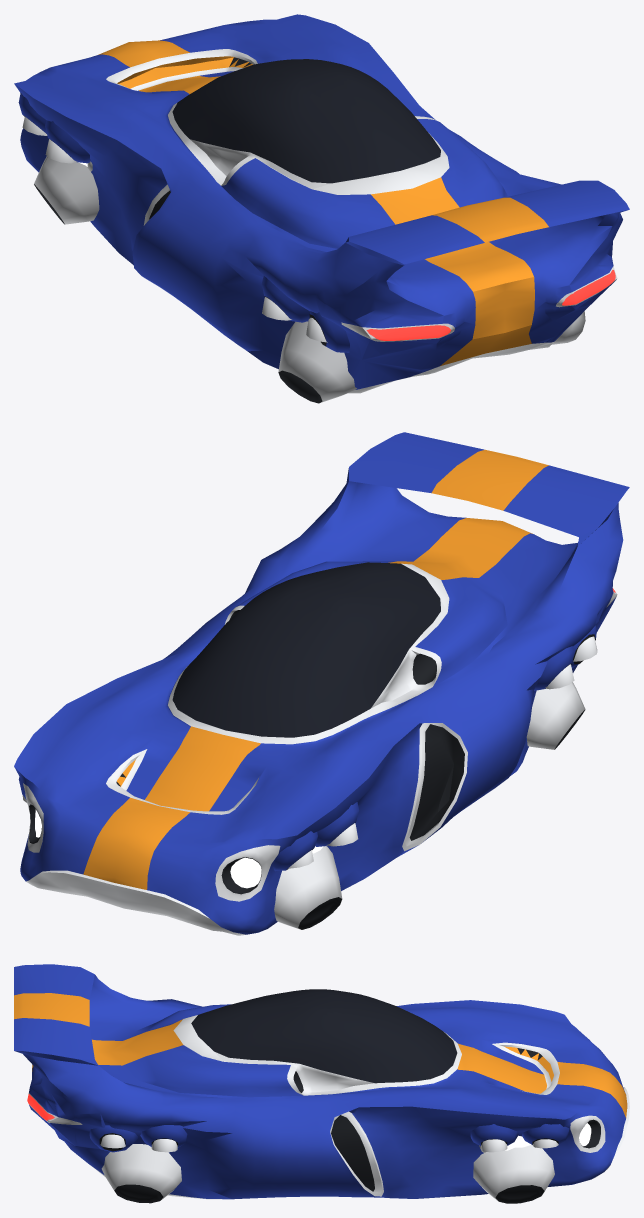
The model's file is c3-twin.glb.
3 renders of one model, top to bottom at view 1: azimuth 30°, elevation 25°; view 2: azimuth 150°, elevation 25°; view 3: azimuth 270°, elevation 25°, orthographic. The views are drawn at different scales.
Parts seen in each view (by area): view 1: Body.001, Canopy, Sockets; view 2: Body.001, Canopy, Sockets; view 3: Body.001, Canopy, Sockets.
Boxes of the visible parts, x1,y1,x2,y2 form: Body.001: [14, 14, 629, 393]; Canopy: [172, 59, 440, 183]; Sockets: [18, 92, 585, 403]; Body.001: [14, 432, 629, 935]; Canopy: [172, 562, 440, 737]; Sockets: [18, 625, 597, 929]; Body.001: [14, 964, 629, 1199]; Canopy: [191, 989, 457, 1083]; Sockets: [89, 1124, 569, 1203].
Bounding box in the file's own units: 1.89 × 1.13 × 4.01.
